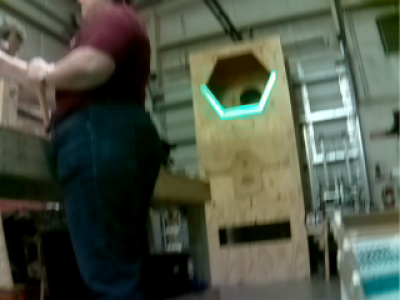target: (200, 70, 276, 119)
